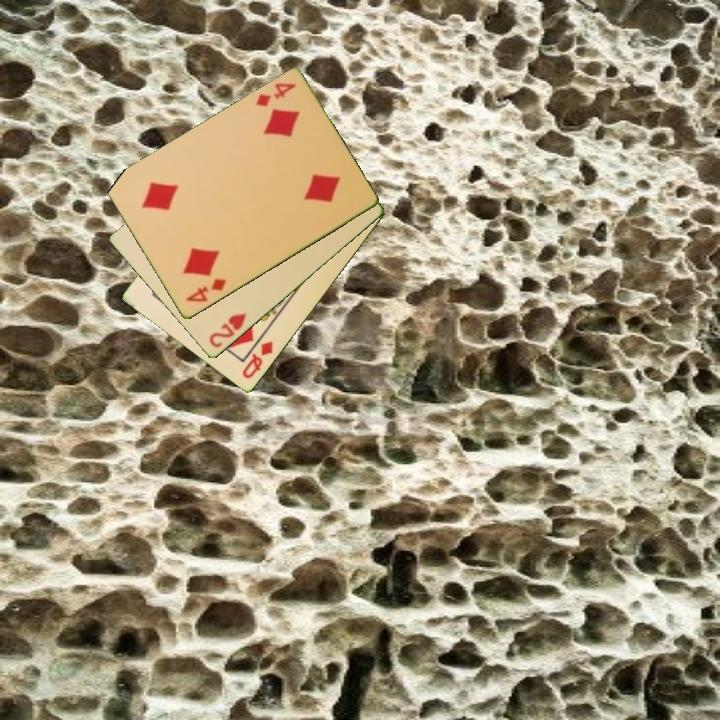2h: (205, 310, 250, 351)
4d: (182, 275, 229, 306), (252, 80, 299, 110)
Qd: (239, 338, 276, 382)
